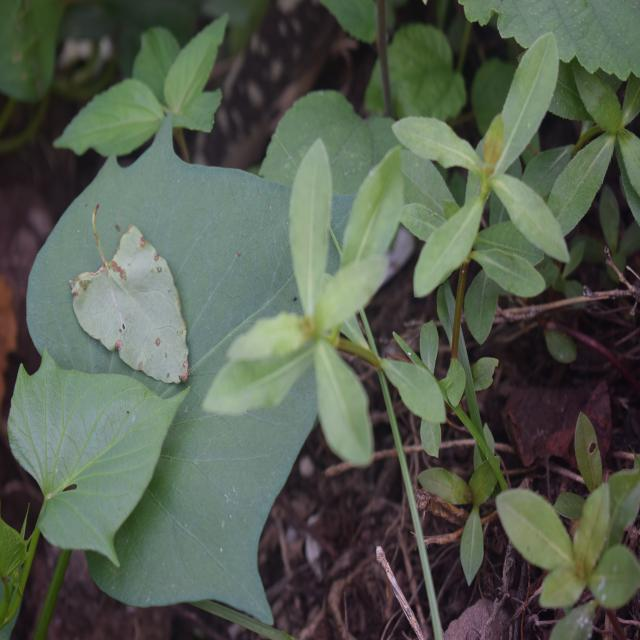Alligatorweed: (383, 33, 574, 323)
